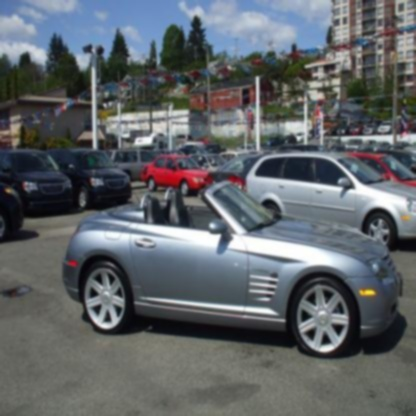Vehicle: (61, 180, 398, 363)
